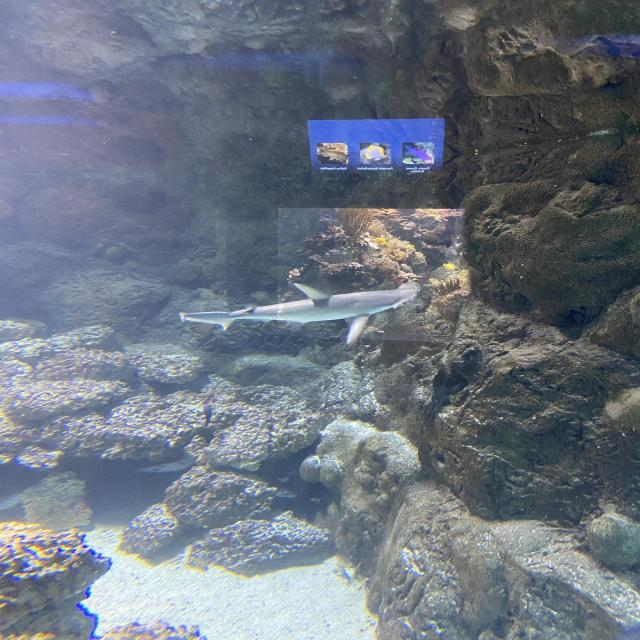shark: (179, 282, 422, 343)
